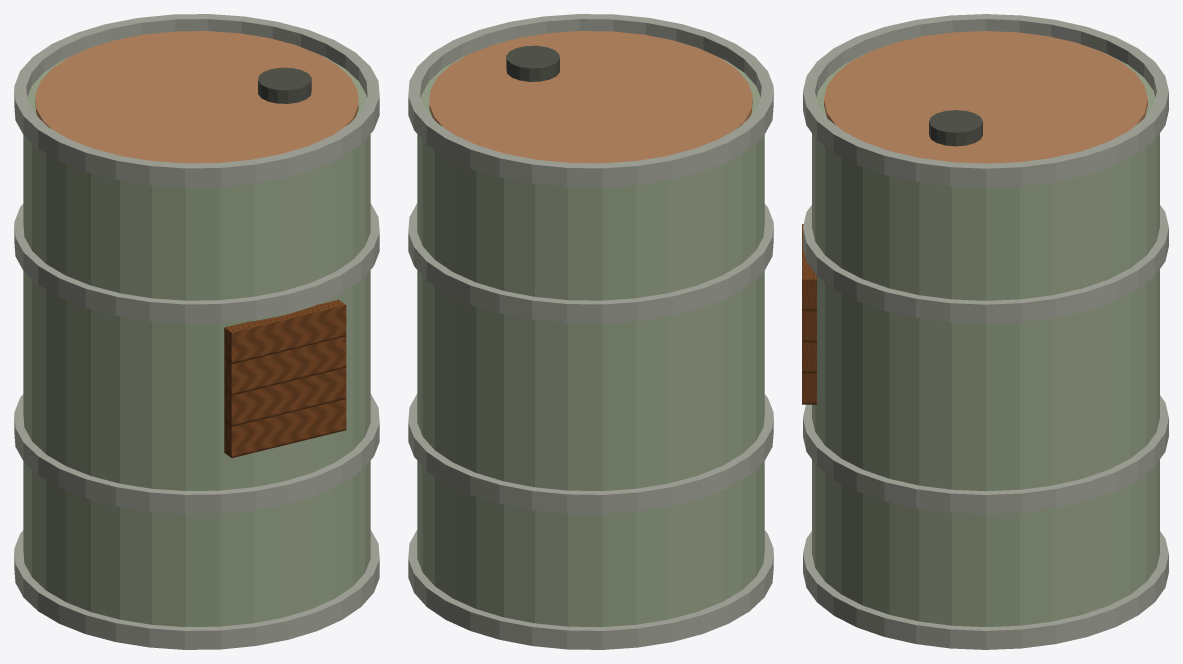
The model's file is reclamation-yard-ribbed-salvage-drum__225.glb.
3 views of the same model, side by side, from view 1: azimuth 30°, elevation 25°; view 2: azimuth 150°, elevation 25°; view 3: azimuth 270°, elevation 25° (orthographic).
Visible parts, largest first — view 1: shell, metal, accent, wood, dark; view 2: shell, metal, accent, dark; view 3: shell, metal, accent, wood, dark.
Boxes of the visible parts, x1,y1,x2,y2 form: shell: (23, 55, 370, 626); metal: (14, 14, 379, 649); accent: (35, 31, 358, 163); wood: (224, 299, 346, 457); dark: (258, 67, 311, 103); shell: (417, 55, 764, 626); metal: (408, 14, 773, 649); accent: (429, 31, 752, 163); dark: (506, 45, 559, 81); shell: (812, 53, 1159, 626); metal: (803, 14, 1168, 649); accent: (824, 31, 1147, 163); wood: (802, 224, 816, 404); dark: (929, 110, 982, 146).
Size of the model in its own units: 0.61 by 0.895 by 0.6115.
Materials: 5 (1 with a texture image).
